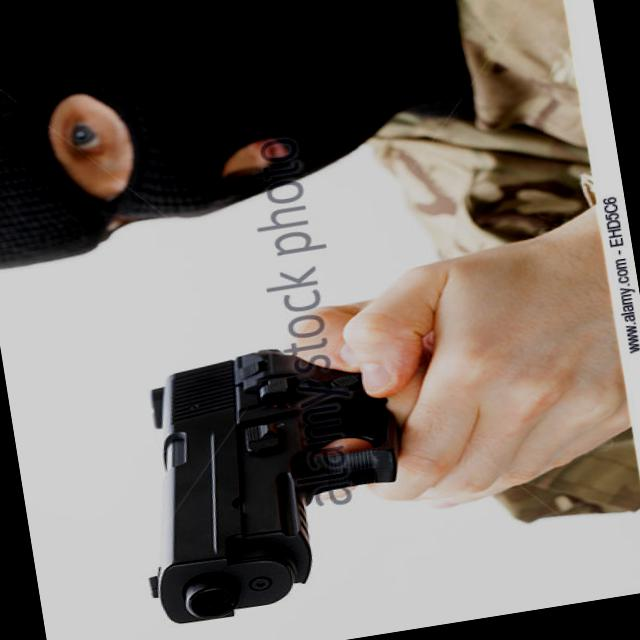handgun: (108, 330, 425, 636)
